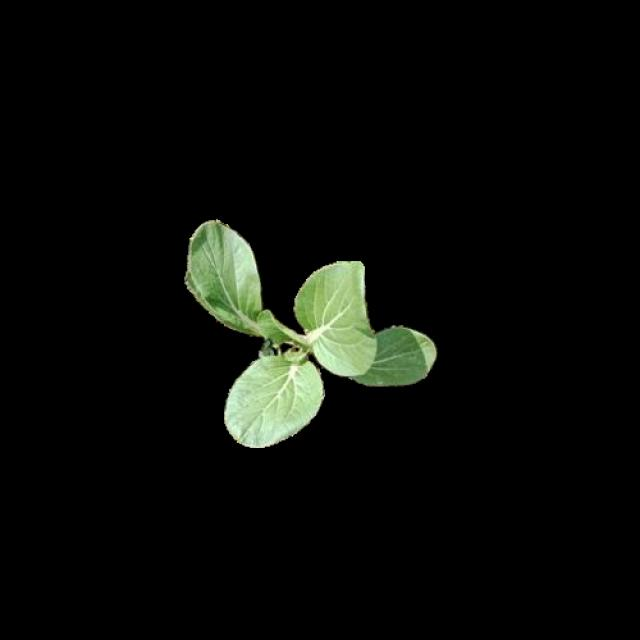healthy: (182, 219, 436, 443)
not-mature: (184, 222, 439, 446)
